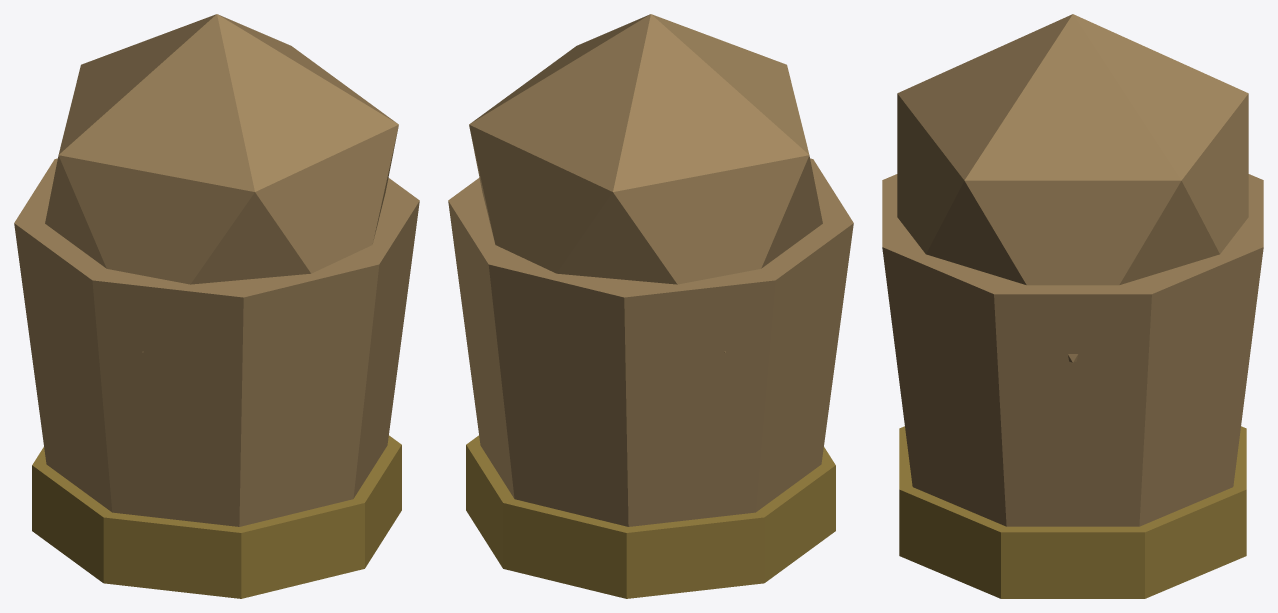
Rendered from inf_v2_hocker_upper_arm.fbx.
3 views of the same model, side by side, from view 1: azimuth 30°, elevation 25°; view 2: azimuth 150°, elevation 25°; view 3: azimuth 270°, elevation 25° (orthographic).
Parts seen in each view (by area): view 1: inf_v2_hocker_upper_arm; view 2: inf_v2_hocker_upper_arm; view 3: inf_v2_hocker_upper_arm.
Boxes of the visible parts, x1,y1,x2,y2 form: inf_v2_hocker_upper_arm: [14, 14, 419, 598]; inf_v2_hocker_upper_arm: [448, 14, 853, 598]; inf_v2_hocker_upper_arm: [882, 14, 1263, 598].
Bounding box in the file's own units: 83.15 × 123 × 83.15.
